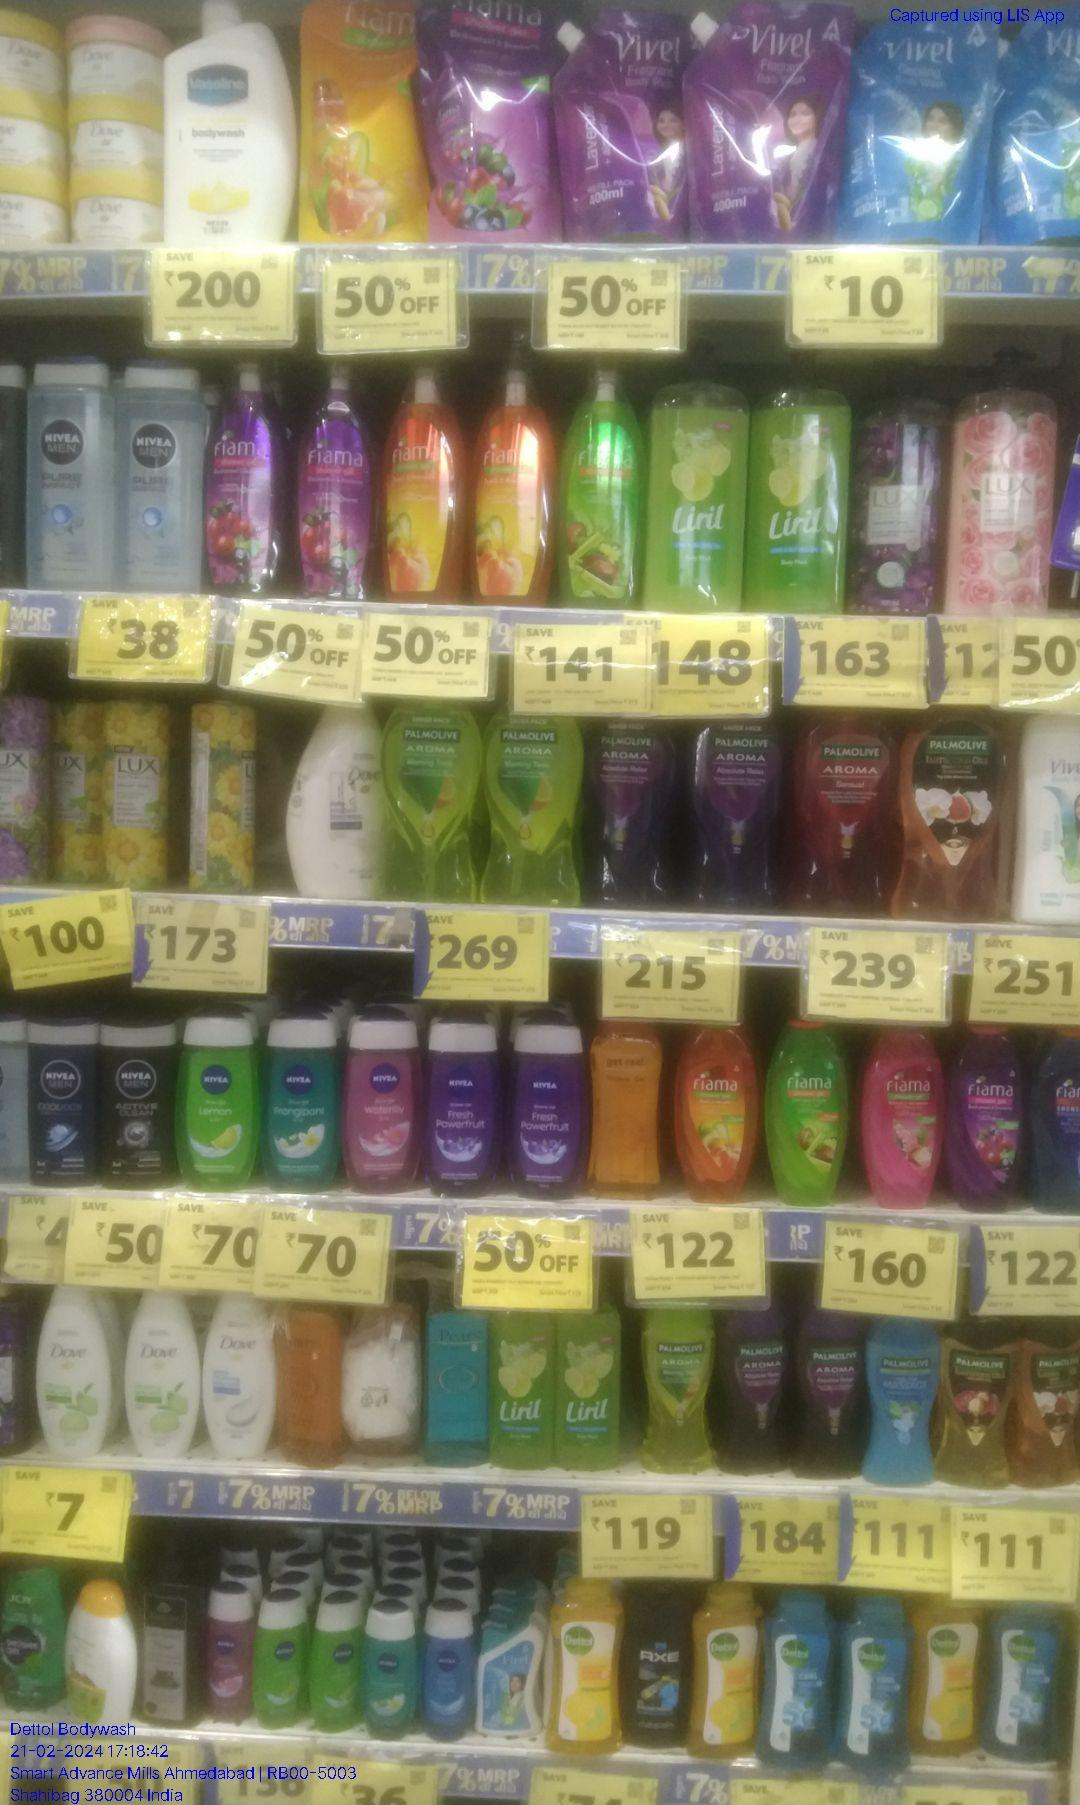Dettol_Bodywash_Cool: (759, 1586, 836, 1770), (836, 1593, 912, 1775), (986, 1603, 1062, 1766)
Dettol_Bodywash_Refresh: (541, 1576, 622, 1757), (912, 1593, 986, 1766), (690, 1580, 760, 1760)
Dove_Gentle_Exfoliating_Body_Wash_250ML: (202, 1289, 275, 1462)
Dove_Refreshing_Body_Wash_250ML: (35, 1284, 112, 1464), (118, 1287, 199, 1458)
Fiama_Shower_Gel_Lemongrass_and_Jojoba_250ML: (764, 1021, 851, 1205)
Fiama_Shower_Gel_Patchouli_and_Macadamia_250ML: (852, 1026, 948, 1207)
Fiama_Shower_Gel_Peach_and_Avocado_250ML: (676, 1025, 760, 1207)
Get_Real_Shower_Gel_Moisturising_Glycerin_300ML: (586, 1021, 666, 1202)
Liril_Lime_and_Tea_Tree_Oil_Body_Wash_250ML: (489, 1311, 557, 1469), (557, 1313, 621, 1472)
Nivea_Shower_Gel_Frangipani_and_Oil_250ML: (260, 1014, 339, 1188)
Nivea_Shower_Gel_Fresh_Powerfruit_250ML: (422, 1014, 504, 1198), (507, 1018, 588, 1194)
Nivea_Shower_Gel_Lemon_and_Oil_250ML: (176, 1010, 255, 1190)
Nivea_Shower_Gel_Waterlily_and_Oil_250ML: (342, 1010, 420, 1190)
Palmolive_Aroma_Moments_Feel_The_Massage_Shower_Gel_250ML: (865, 1315, 940, 1487)
Palmolive_Aroma_Morning_Tonic_Shower_Gel_250ML: (378, 698, 483, 904), (483, 714, 589, 909), (638, 1307, 716, 1472)
Palmolive_Aroma_Relax_250ML: (683, 717, 784, 911), (590, 719, 681, 909), (793, 1310, 865, 1475), (719, 1311, 792, 1472)
Palmolive_Luminous_Oils_Invigorating_Macadamia_Oil_With_Peony_250ML: (937, 1320, 1013, 1495)
Palmolive_Luminous_Oils_With_White_Orchid_Shower_Gel_250ML: (892, 711, 1009, 919), (1013, 1315, 1080, 1491)
